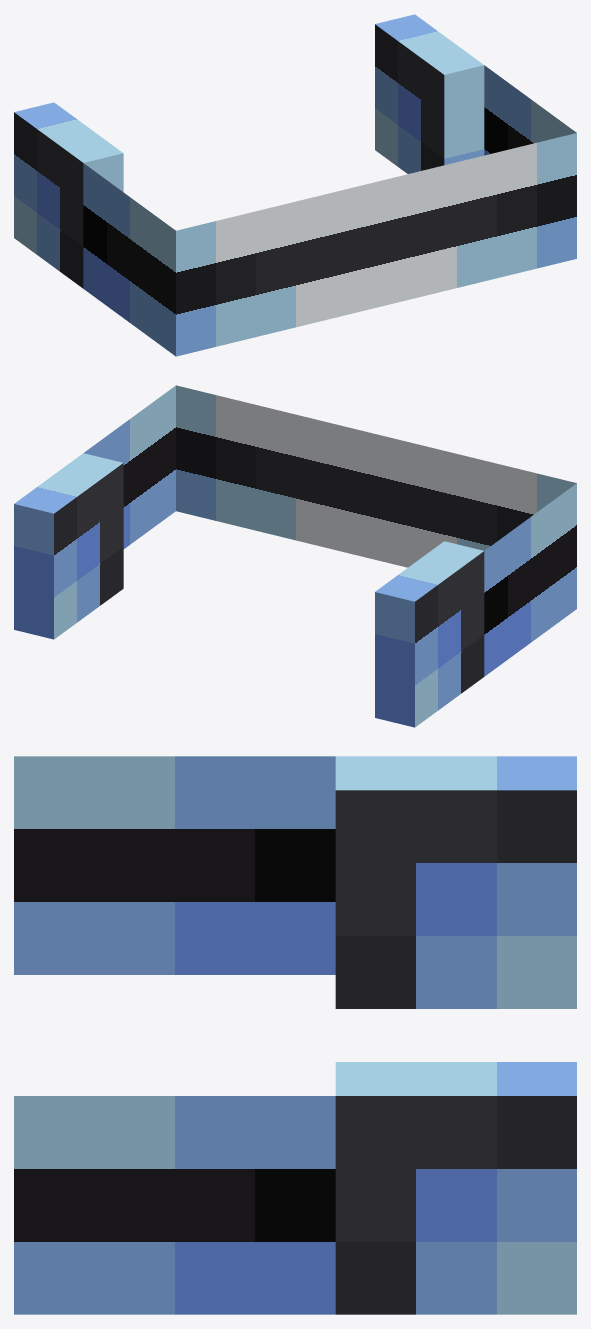
Rendered from sl_futuristic_glasses.glb.
The picture shows the model from 3 angles, top to bottom: view 1: azimuth 30°, elevation 25°; view 2: azimuth 150°, elevation 25°; view 3: azimuth 270°, elevation 25°; orthographic projection. The views are drawn at different scales.
Parts seen in each view (by area): view 1: bb_futuristic_glasses; view 2: bb_futuristic_glasses; view 3: bb_futuristic_glasses.
Part boxes in pixels (left/top/right/bottom): bb_futuristic_glasses: left=14, top=14, right=576, bottom=356; bb_futuristic_glasses: left=14, top=385, right=576, bottom=727; bb_futuristic_glasses: left=14, top=756, right=576, bottom=1314.
Size of the model in its own units: 0.625 by 0.1875 by 0.4375.
Materials: 1 (1 with a texture image).
